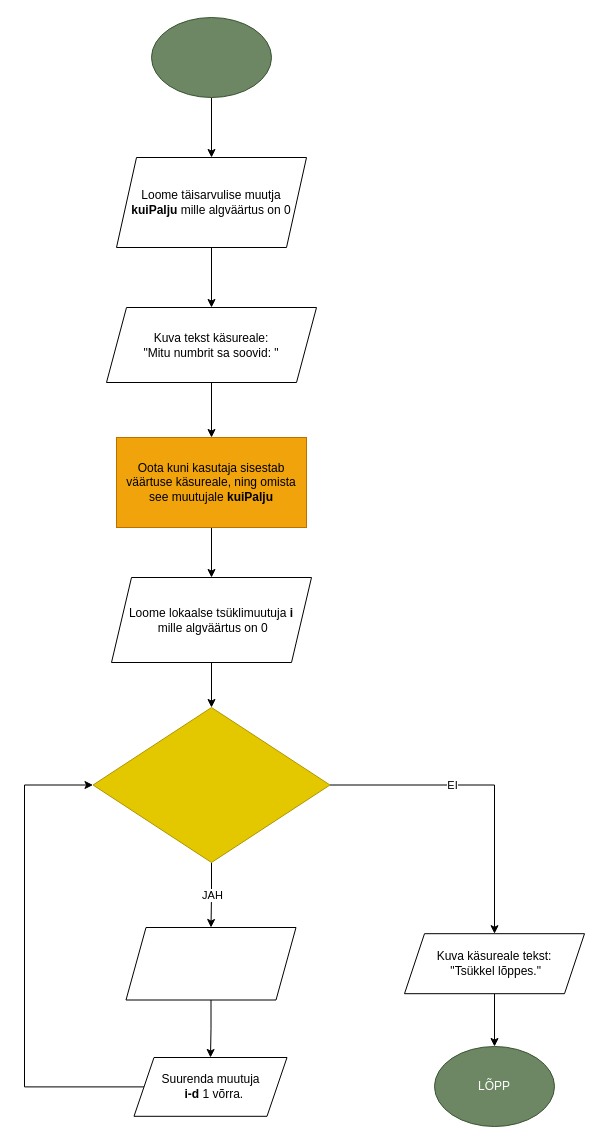
Image size: 602x1144. Some labels were removed from this diagram. The shapes that lost their labels are listed below. From the top down, each one's box as (x1, y1, x2, y2) in pixels, then its label:
(150, 16, 272, 98): ALGUS
(92, 706, 330, 862): Kas muutuja i on väiksem kui muutuja kuiPalju ?
(125, 926, 296, 1000): Soorita tehe muutuja i+1 ja kuva see käsureale.
